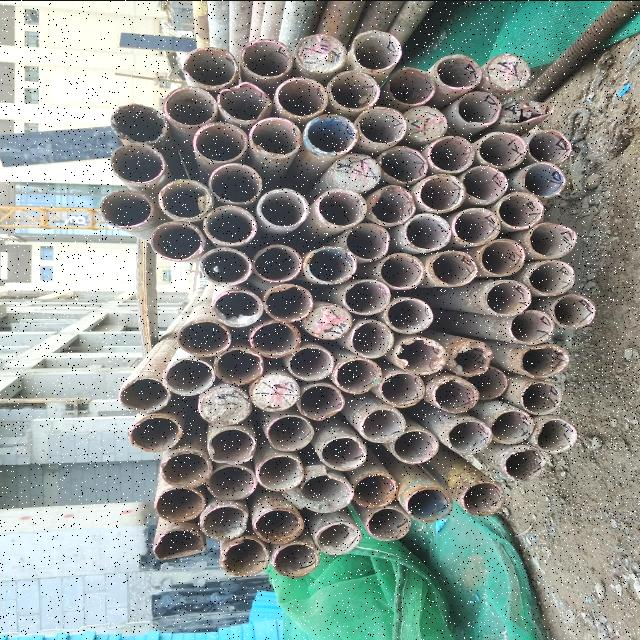pipe: (109, 102, 168, 144), (182, 45, 238, 87), (192, 120, 248, 162), (302, 112, 358, 154), (158, 178, 212, 220), (208, 161, 262, 203), (274, 75, 328, 117), (109, 142, 165, 182), (162, 85, 218, 125), (150, 220, 206, 260), (196, 384, 252, 424), (325, 69, 381, 109), (256, 186, 309, 228), (216, 80, 270, 121), (202, 203, 256, 244), (198, 245, 252, 285), (239, 38, 293, 78), (248, 116, 302, 156), (294, 32, 348, 72), (300, 472, 354, 512), (351, 28, 402, 70), (176, 317, 232, 355), (162, 356, 216, 395), (314, 186, 366, 226), (159, 448, 212, 487), (127, 413, 181, 451), (248, 372, 300, 411), (99, 188, 152, 226), (210, 288, 262, 326), (356, 105, 406, 144), (331, 152, 382, 190), (118, 375, 170, 412), (475, 130, 527, 167), (220, 537, 268, 577), (341, 220, 389, 260), (368, 184, 416, 224), (418, 172, 466, 212), (212, 346, 262, 384), (252, 243, 302, 281), (262, 283, 312, 321), (306, 244, 356, 282), (378, 144, 428, 182), (396, 336, 446, 374), (458, 164, 508, 202), (450, 206, 500, 244), (154, 485, 206, 521), (204, 463, 256, 499), (403, 211, 451, 250), (207, 426, 256, 464), (252, 506, 303, 542), (200, 502, 248, 540), (387, 66, 435, 104), (400, 103, 448, 141), (426, 134, 474, 172), (496, 190, 544, 228), (517, 343, 569, 378), (526, 221, 576, 257), (478, 237, 525, 275), (527, 257, 574, 295), (265, 414, 313, 451), (334, 356, 382, 393), (350, 470, 398, 507), (428, 249, 476, 286), (303, 302, 352, 338), (384, 296, 433, 332), (250, 321, 300, 356), (484, 52, 530, 90), (151, 527, 205, 559), (256, 453, 304, 489), (342, 278, 390, 314), (434, 52, 482, 88), (483, 278, 531, 314), (272, 541, 319, 577), (319, 434, 366, 470), (391, 427, 438, 463), (432, 376, 479, 412), (288, 344, 334, 380), (298, 382, 344, 418), (360, 406, 406, 442), (378, 252, 424, 288), (448, 339, 494, 375), (455, 88, 501, 124), (351, 319, 394, 357), (404, 486, 452, 520), (521, 161, 566, 197), (508, 308, 553, 344), (489, 407, 534, 443), (379, 371, 424, 406), (526, 128, 571, 163), (316, 520, 362, 554), (365, 506, 411, 540), (445, 418, 491, 452), (461, 480, 504, 516), (551, 293, 595, 327), (534, 416, 576, 451), (464, 364, 507, 398), (520, 380, 562, 414), (503, 447, 546, 479), (502, 98, 554, 124)
